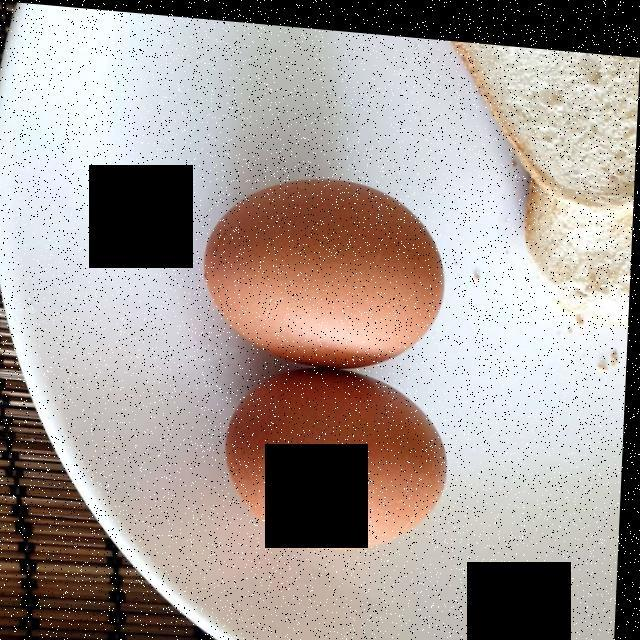bread: (470, 39, 639, 287)
egg: (210, 176, 445, 538)
